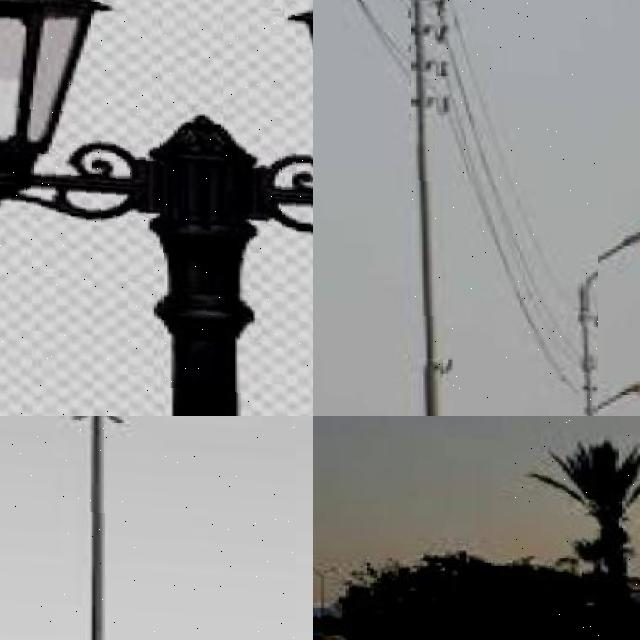street light: (0, 0, 313, 416), (411, 0, 598, 416), (0, 416, 296, 640), (512, 416, 640, 640), (565, 218, 640, 416), (580, 377, 640, 416), (313, 562, 338, 630)
